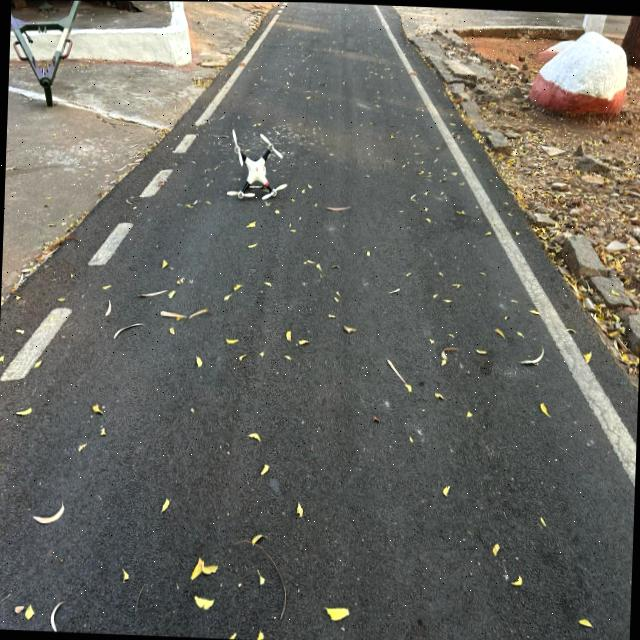drone: (200, 108, 322, 232)
